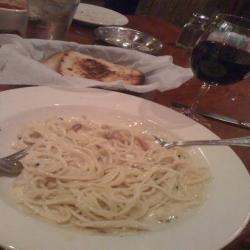bread: (41, 46, 156, 100)
carbonara: (13, 115, 219, 242)
